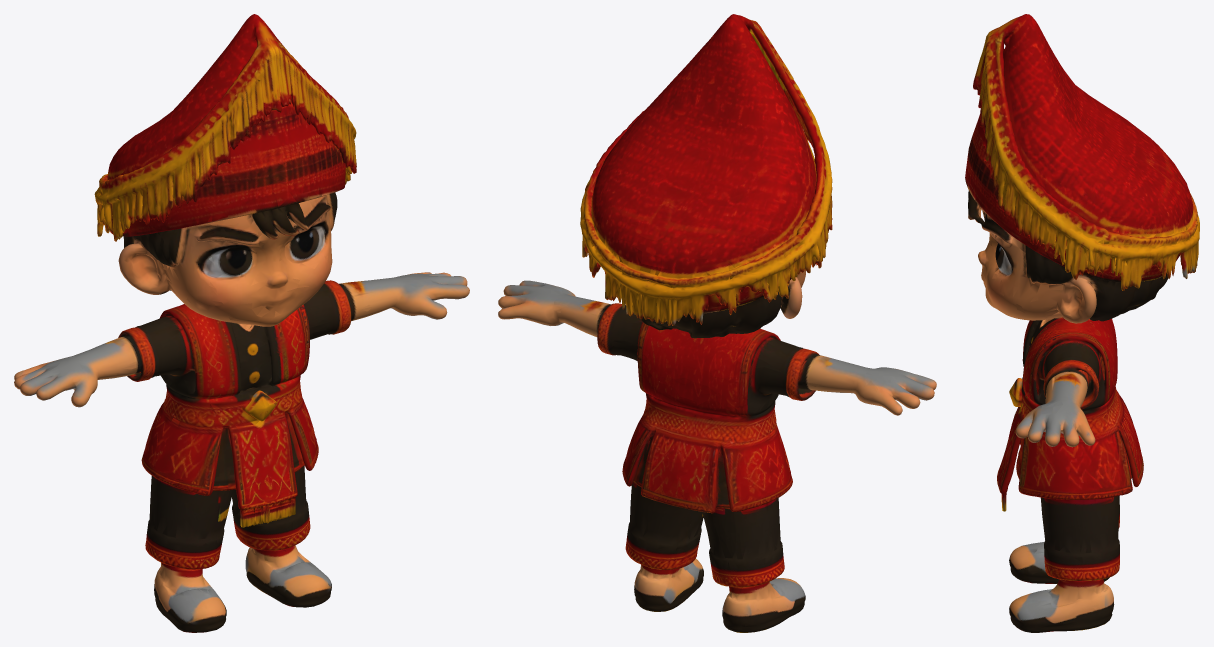
Rendered from tripo_convert_604c58cc-e021-4afa-a615-850cd1a7fd06.fbx.
The picture shows the model from 3 angles, left to right: view 1: azimuth 30°, elevation 25°; view 2: azimuth 150°, elevation 25°; view 3: azimuth 270°, elevation 25°; orthographic projection. The views are drawn at different scales.
Visible parts, largest first — view 1: tripo_node_604c58cc; view 2: tripo_node_604c58cc; view 3: tripo_node_604c58cc.
Part boxes in pixels (<box>): tripo_node_604c58cc: <box>14,14,469,632</box>; tripo_node_604c58cc: <box>498,14,936,632</box>; tripo_node_604c58cc: <box>965,14,1199,632</box>.
Bounding box in the file's own units: 77.58 × 36.43 × 100.
1 material, 1 textured.
